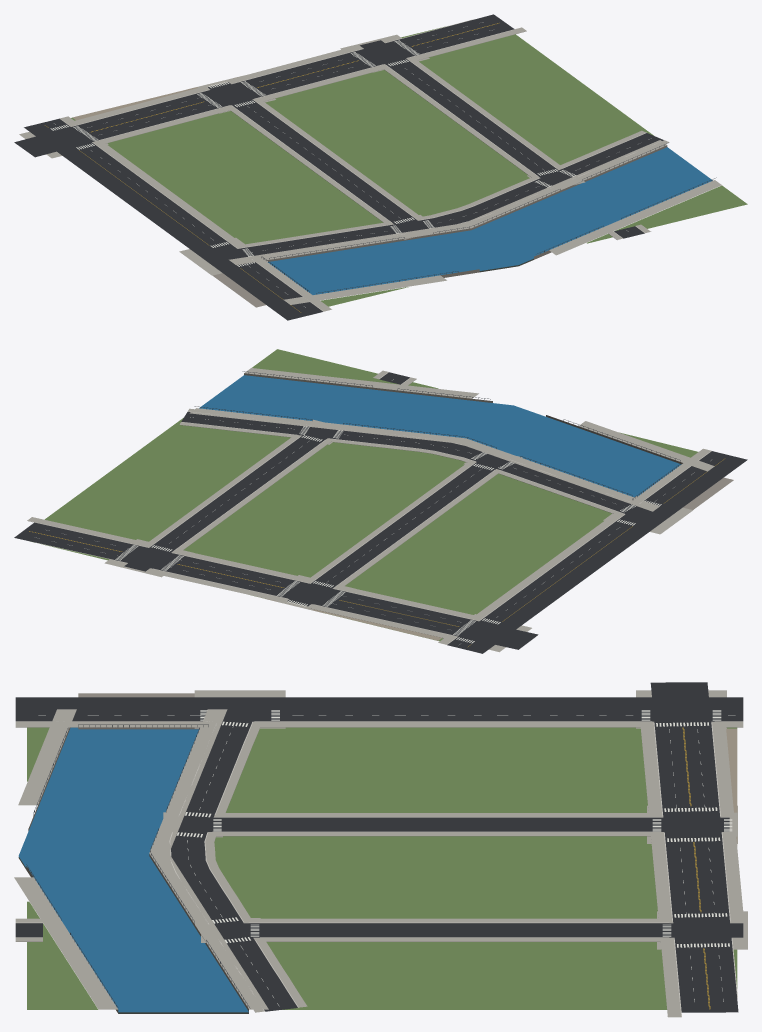
Rendered from Ground_4_2.fbx.
The picture shows the model from 3 angles, top to bottom: view 1: azimuth 30°, elevation 25°; view 2: azimuth 150°, elevation 25°; view 3: azimuth 270°, elevation 25°; orthographic projection. The views are drawn at different scales.
Parts seen in each view (by area): view 1: Ground_4_2; view 2: Ground_4_2; view 3: Ground_4_2.
Part boxes in pixels (x1,y1,x2,y2): Ground_4_2: (14,14,747,320); Ground_4_2: (14,349,747,653); Ground_4_2: (14,682,747,1017).
Size of the model in its own units: 279 by 2.7 by 258.
